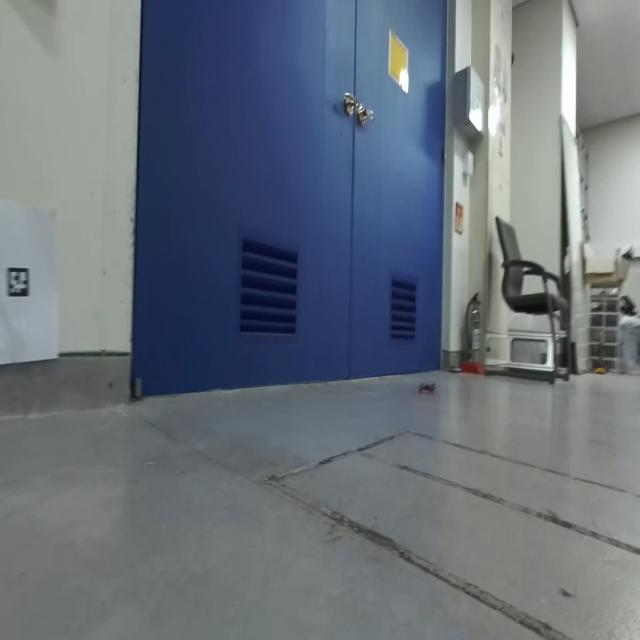crazyflie: (413, 378, 438, 402)
